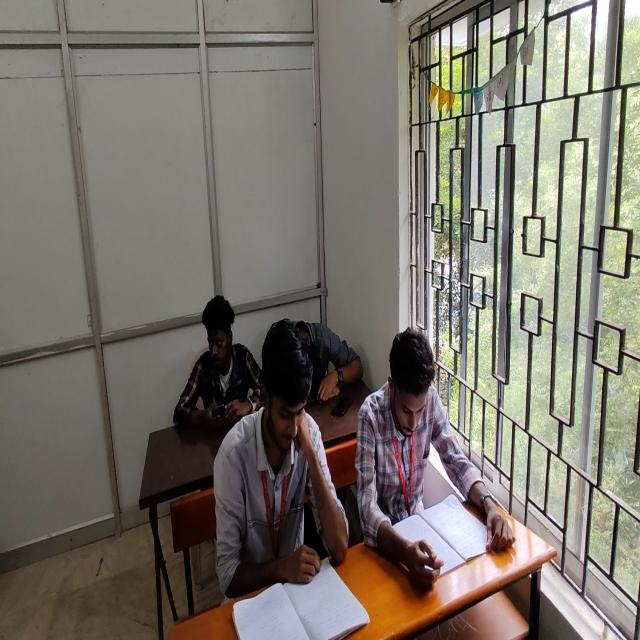reading: (212, 317, 348, 605), (367, 328, 497, 585)
sleeping: (291, 318, 360, 403)
using_mobile: (172, 294, 260, 431)
